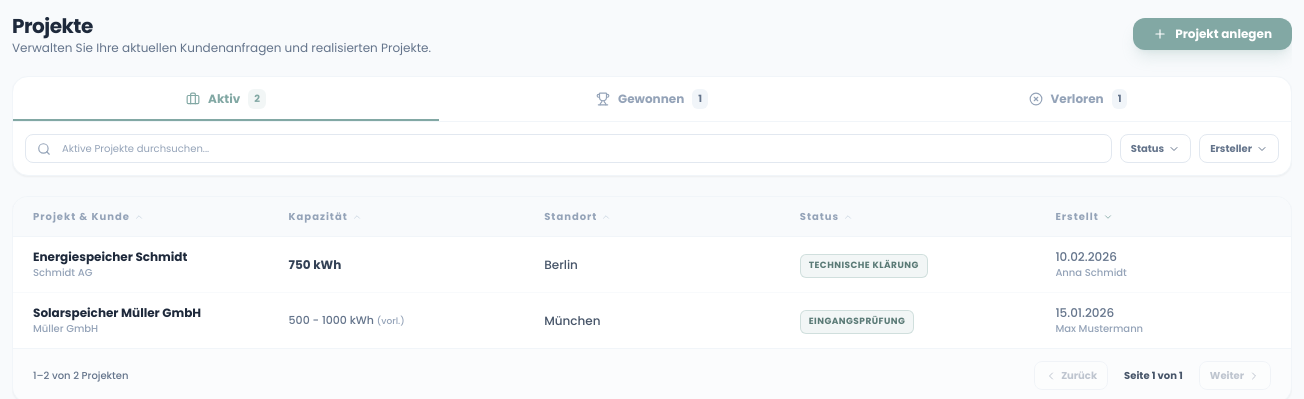
Test: ProjektUeberblick – Tabs › wechselt zu Gewonnen-Tab und zeigt gewonnene Projekte
Step 1. Click the text "Gewonnen" → (651, 99), box [618,91,684,107]
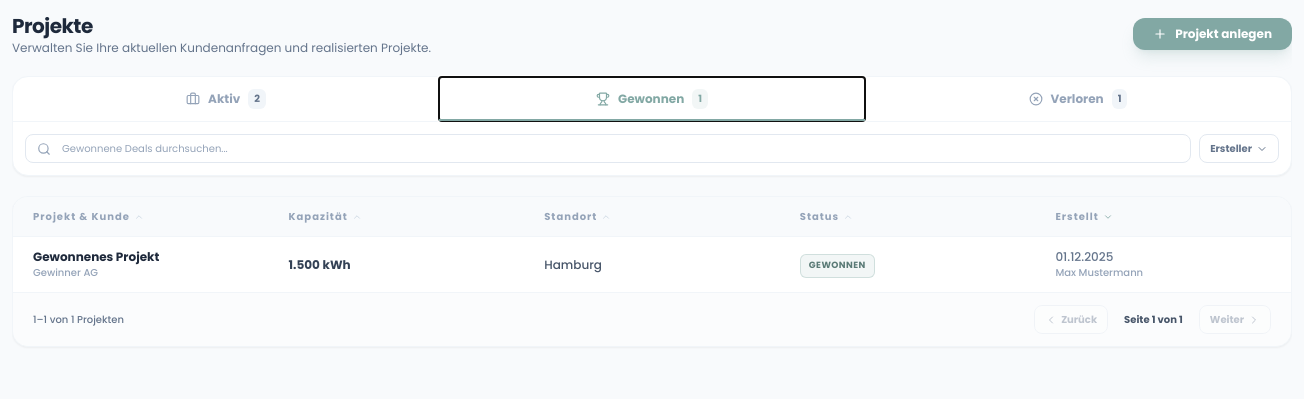
Check: the text "Gewonnenes Projekt" is shown, box [33,248,159,265]
Check: the text "Solarspeicher Müller GmbH" is gone
